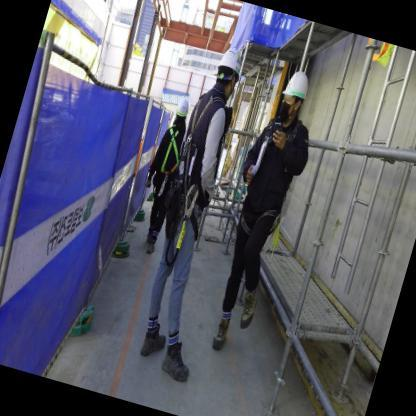Helmet: (210, 46, 251, 88), (276, 67, 319, 107)
safety-shoe: (155, 346, 199, 394), (233, 287, 267, 336), (135, 326, 173, 363), (209, 314, 235, 356)
